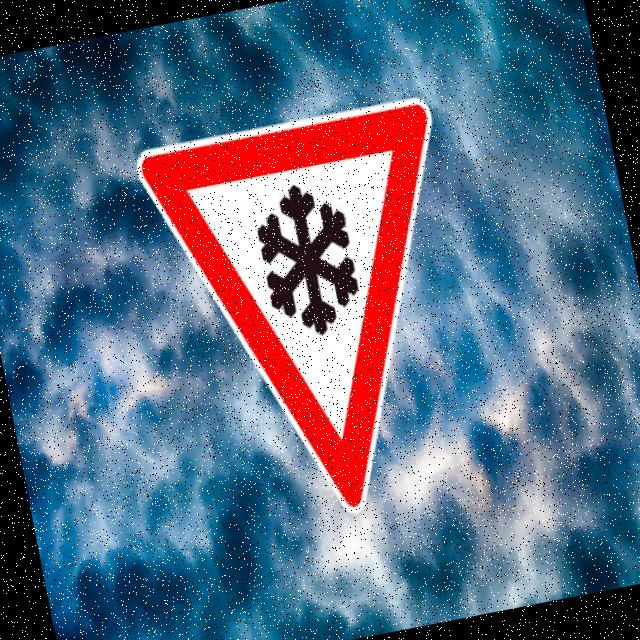snow_warning: (128, 85, 510, 554)
